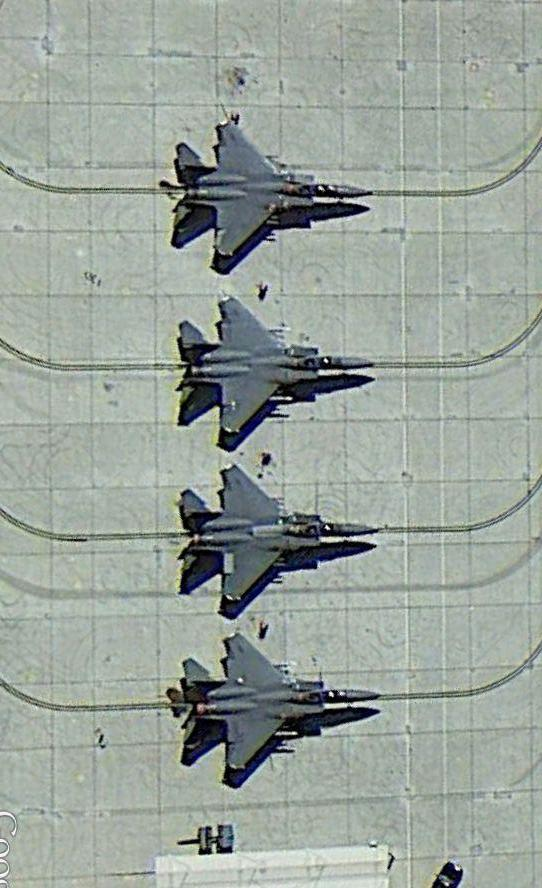F-15: (169, 626, 381, 785), (168, 110, 380, 266), (175, 468, 383, 612), (170, 296, 372, 442)
